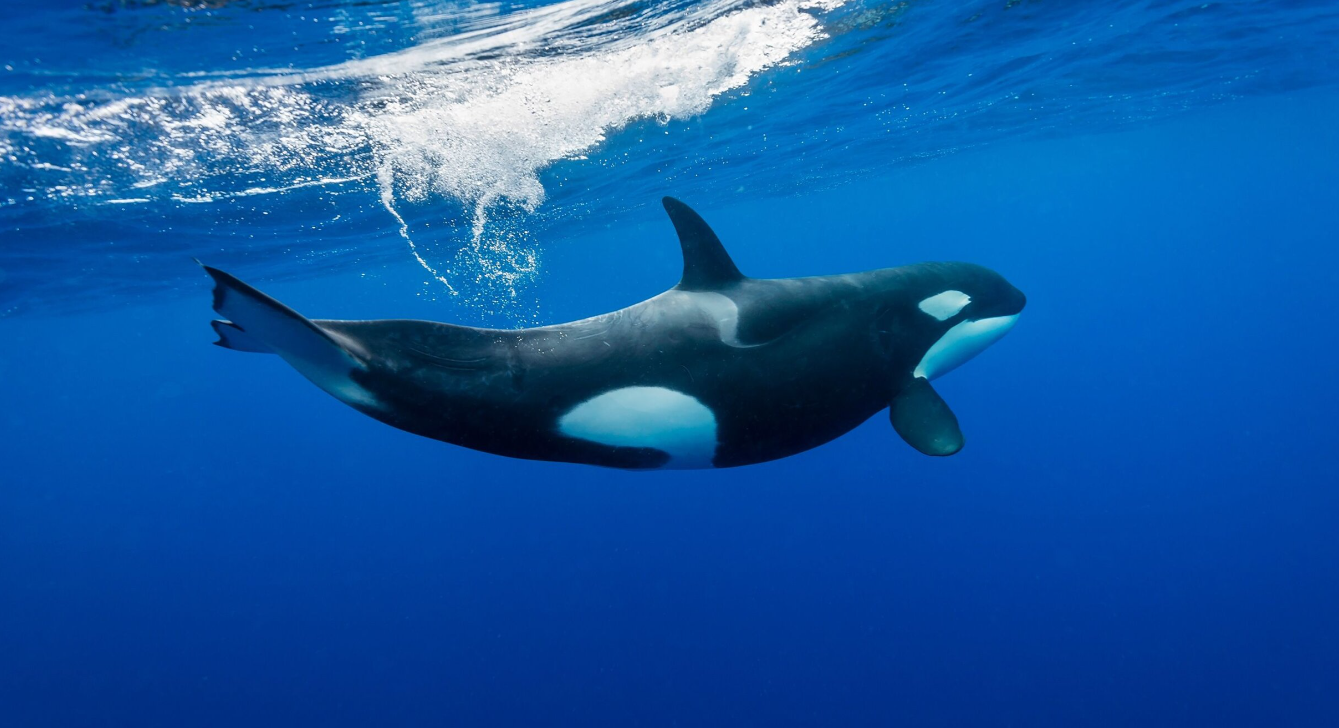Orca whale: (198, 192, 1032, 485)
